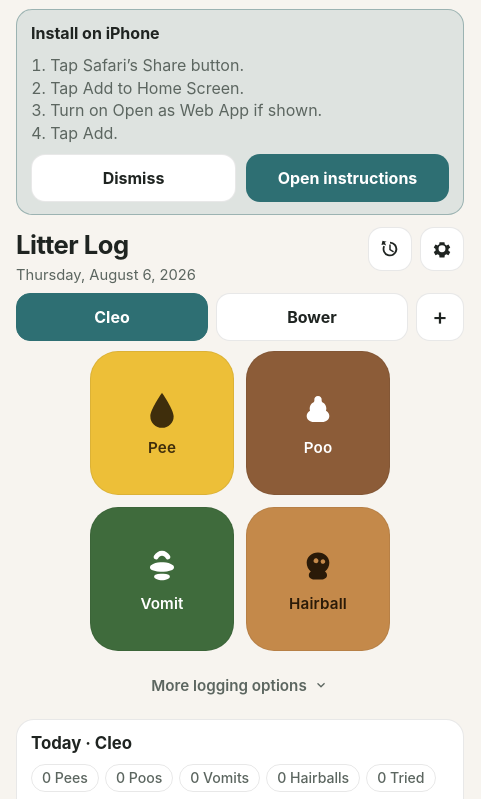
Scenario: Vomit and Hairball logging › logs Hairball immediately and updates Today / Recent
The width and height of the screenshot is (481, 799).
Expected: the radio button labelled "Cleo" is shown, 16,293 -> 208,341
What coordinates should you click on to do the following:
click the button "Hairball"
I would click on:
 (318, 579)
Its box is 246,507 -> 390,651.
(page scrolled)
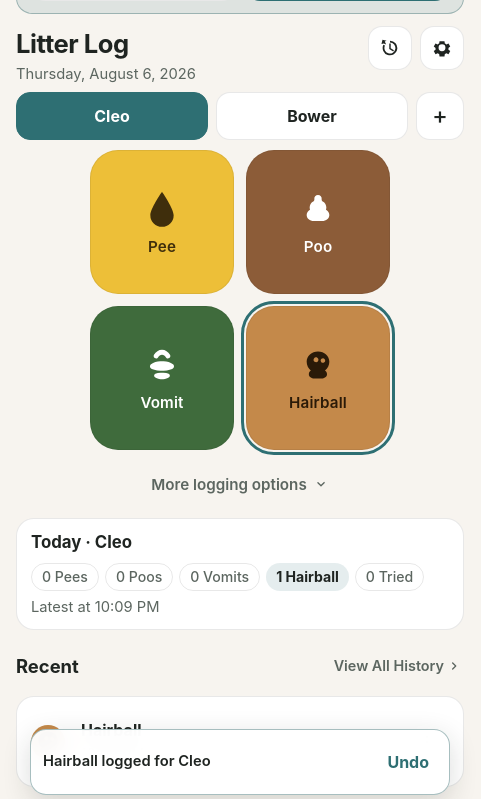
Result: the element with test id "status-toast" shows "Hairball logged for Cleo" at 43,752 -> 211,770
Result: the element with test id "today-stats" shows "1 Hairball" at 276,568 -> 339,585
Result: the heading "Recent" is shown at 16,654 -> 79,679
